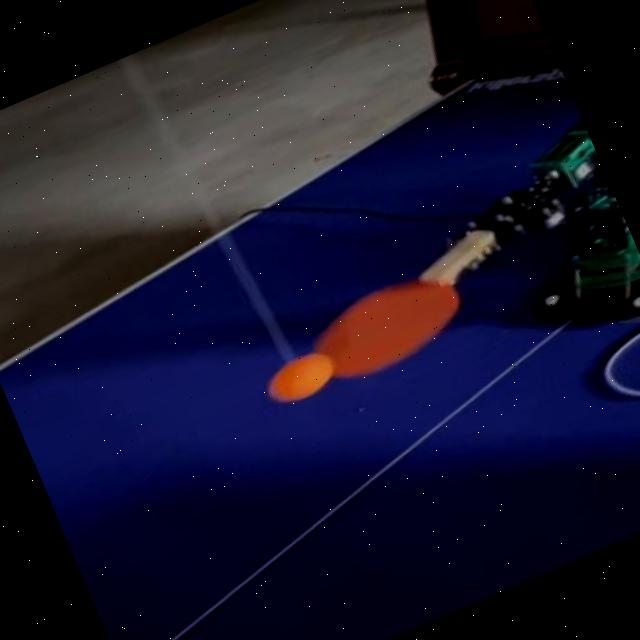ping-pong-ball: (262, 342, 340, 406)
